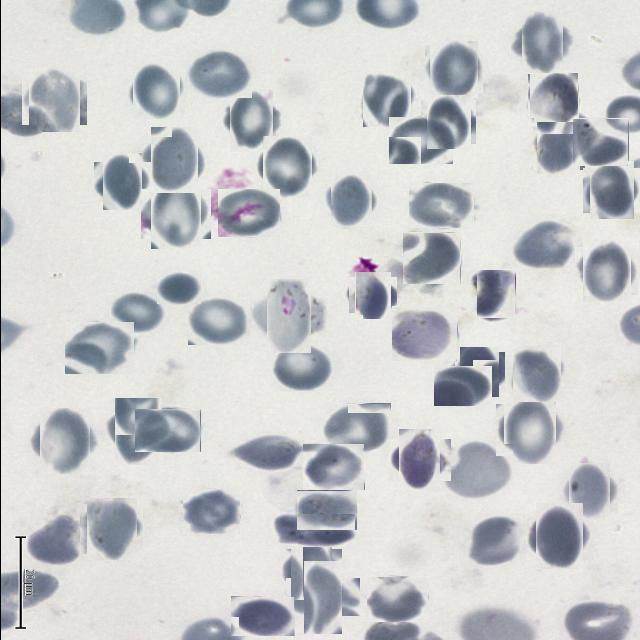red blood cell: (64, 321, 134, 374), (444, 444, 512, 498), (499, 400, 559, 460), (145, 184, 205, 244), (391, 306, 456, 361), (34, 412, 93, 471), (24, 70, 82, 128), (322, 403, 390, 452), (511, 220, 576, 270), (145, 131, 202, 188), (109, 404, 166, 461), (82, 500, 138, 558), (186, 49, 252, 98), (530, 508, 587, 564), (258, 138, 314, 194), (294, 569, 350, 625), (388, 116, 453, 164), (578, 243, 633, 299), (408, 182, 474, 228), (270, 343, 333, 391), (402, 232, 460, 284), (187, 297, 249, 345), (217, 189, 279, 237), (467, 514, 524, 566), (302, 443, 364, 490), (134, 408, 200, 452), (366, 576, 428, 622), (426, 43, 479, 96), (516, 16, 568, 70), (225, 94, 278, 146), (359, 73, 412, 125), (393, 434, 445, 486), (510, 348, 562, 400), (231, 433, 302, 471), (572, 118, 628, 166), (182, 488, 240, 534), (129, 65, 181, 116), (586, 164, 636, 217), (274, 514, 354, 547), (285, 544, 336, 595), (30, 514, 80, 566), (230, 596, 294, 636), (564, 466, 614, 516), (528, 73, 577, 123), (296, 490, 357, 530), (97, 158, 146, 206), (423, 98, 472, 146), (433, 366, 491, 406), (110, 291, 165, 333), (534, 124, 582, 172), (326, 177, 374, 224), (456, 350, 502, 394), (476, 269, 515, 318), (350, 274, 392, 316), (156, 273, 200, 304)
ring: (258, 286, 318, 346)
